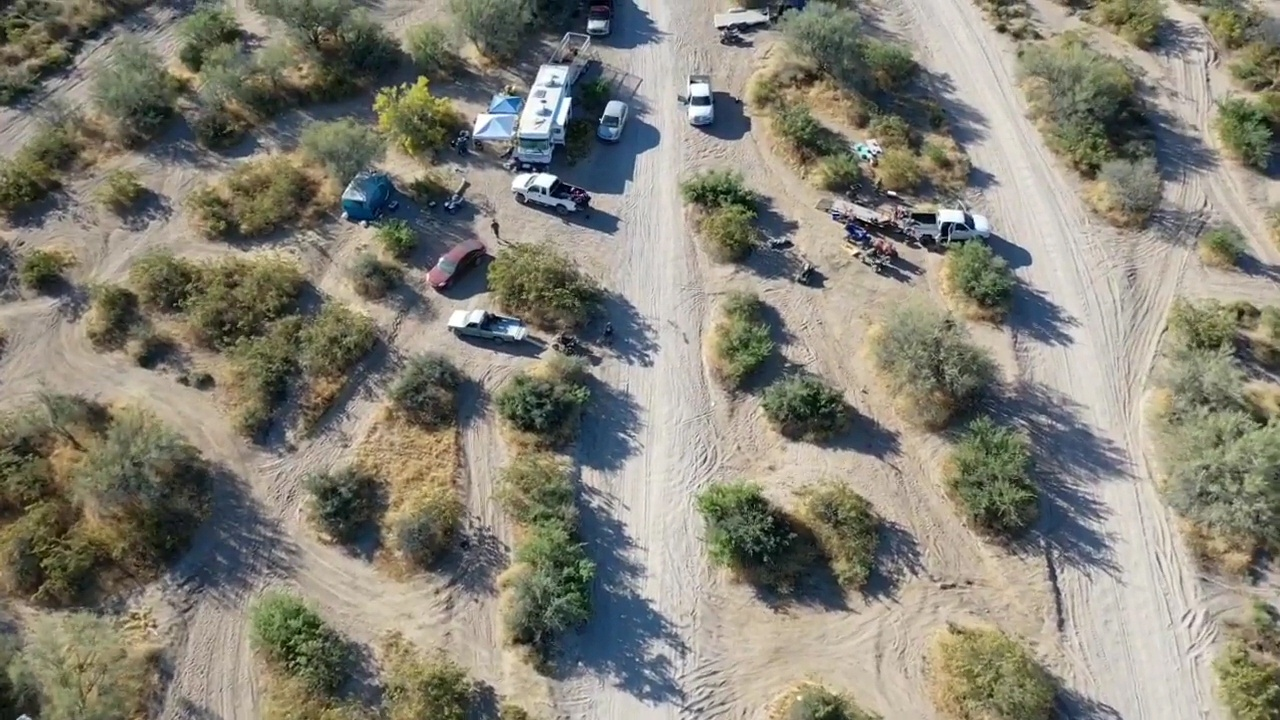araba: (426, 237, 487, 293), (817, 192, 896, 231), (592, 97, 628, 144), (586, 1, 615, 38)
insan: (490, 211, 502, 242)
kamyonet: (906, 205, 995, 242), (447, 302, 527, 341), (511, 173, 583, 216), (678, 65, 717, 127)
otobus: (511, 64, 575, 165)
